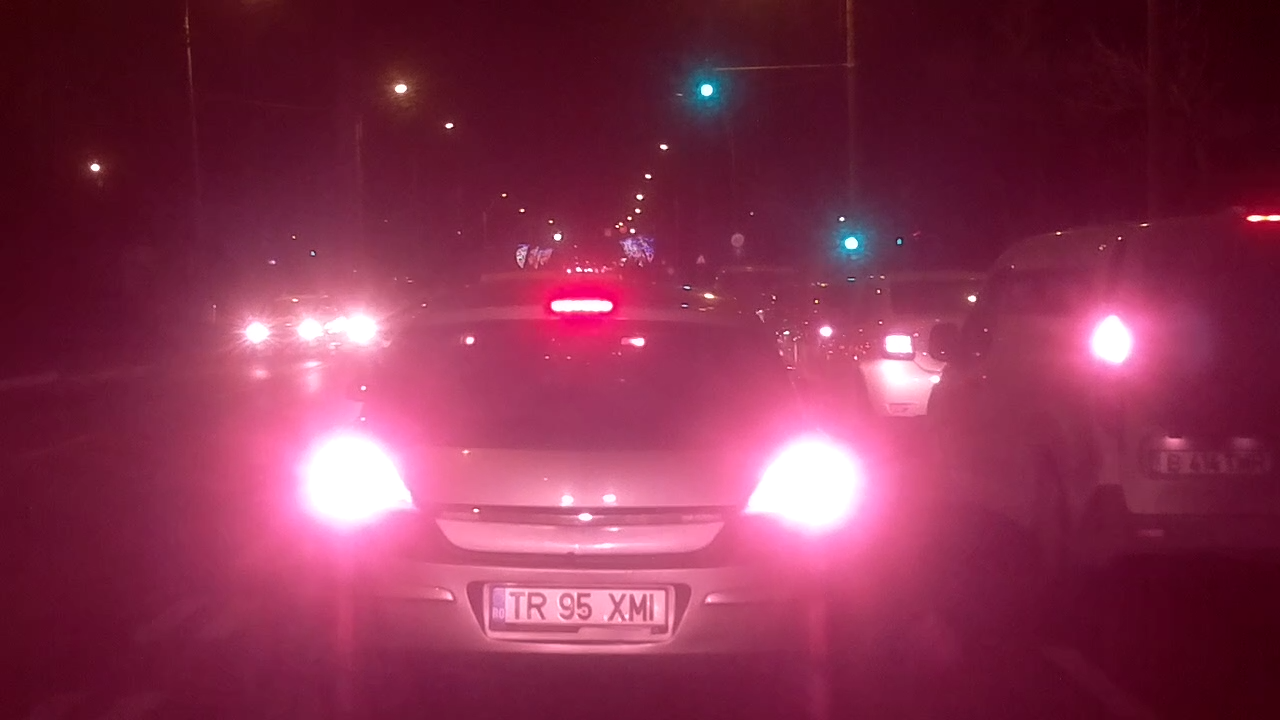license-plate: (483, 583, 674, 631)
